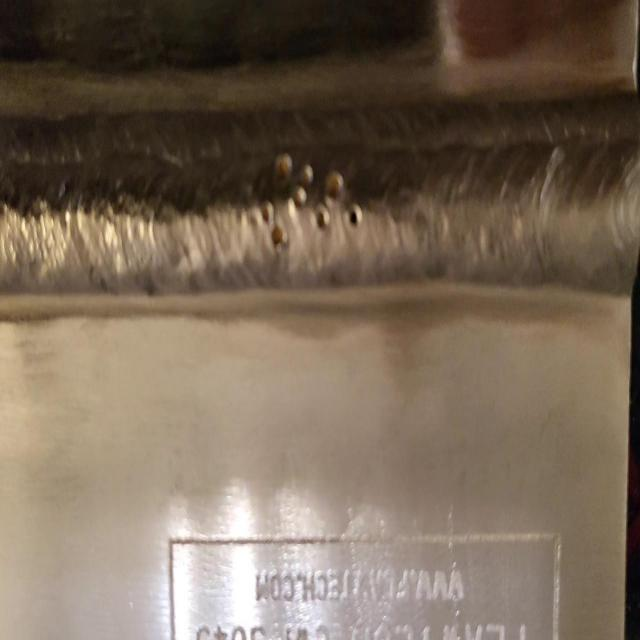Welding Line: (0, 114, 640, 290)
Workpiece: (1, 3, 624, 640)
porosity: (260, 151, 362, 249)
